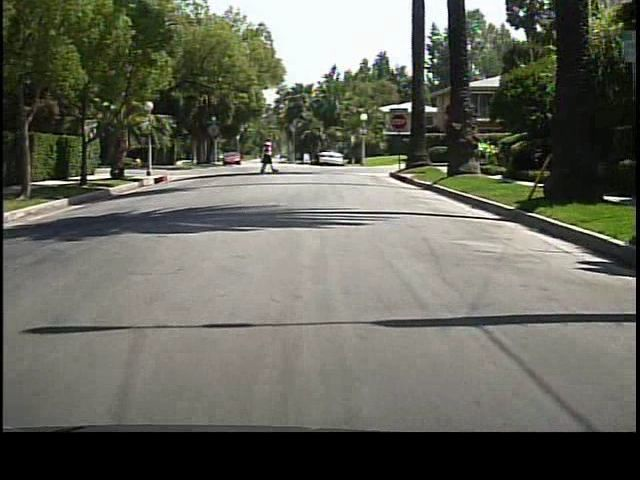person: (261, 135, 278, 174)
